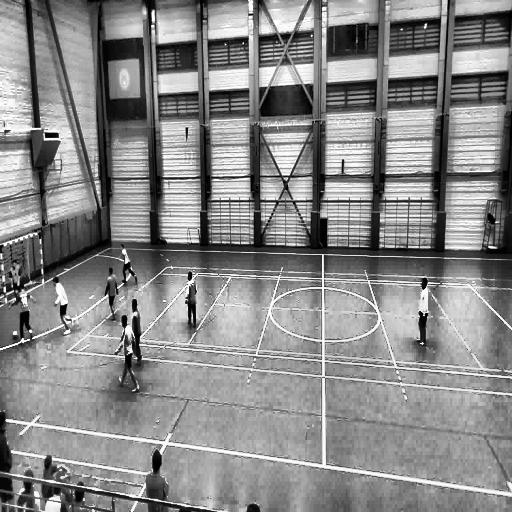ball: (12, 328, 18, 340)
player: (117, 314, 139, 388), (127, 297, 144, 368), (54, 276, 72, 334), (16, 282, 33, 340), (415, 276, 429, 346), (120, 242, 138, 284), (185, 271, 198, 329), (105, 266, 118, 320), (8, 258, 21, 306)
